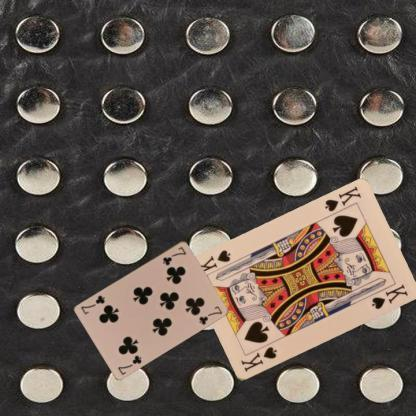7c: (116, 352, 142, 376), (160, 244, 187, 266)
Ks: (238, 344, 278, 374), (322, 184, 362, 214)
